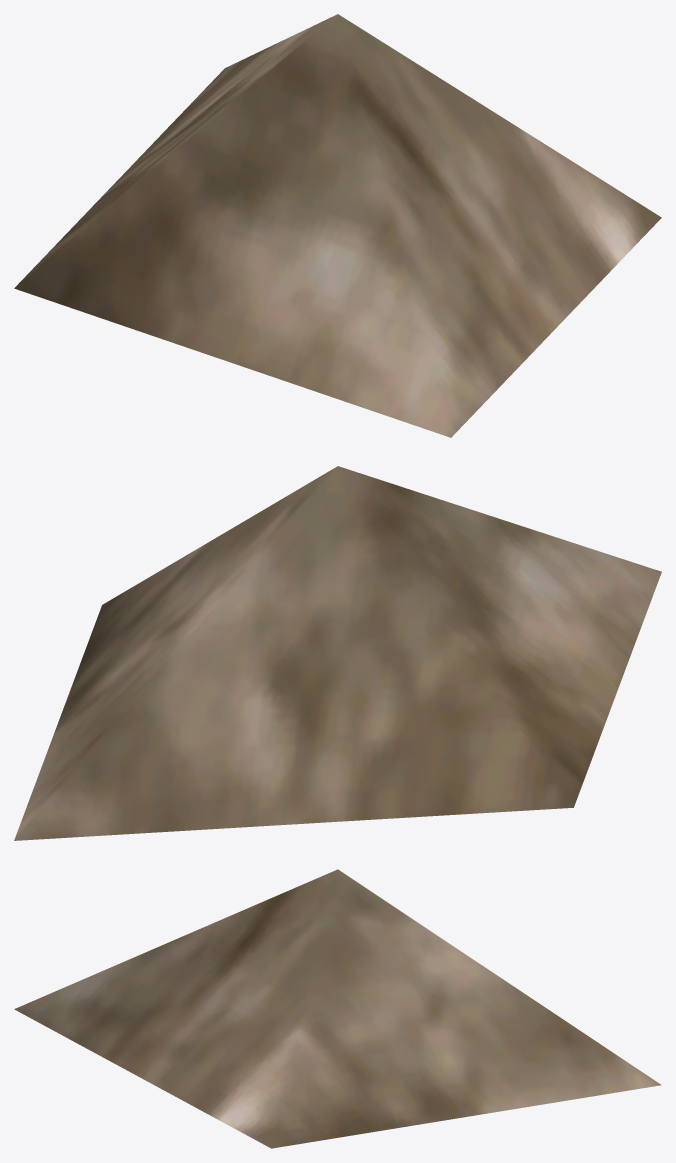
The model's file is OVERHILL_A_01_PLANE11.fbx.
3 renders of one model, top to bottom at view 1: azimuth 30°, elevation 25°; view 2: azimuth 150°, elevation 25°; view 3: azimuth 270°, elevation 25°, orthographic. The views are drawn at different scales.
Visible parts, largest first — view 1: OVERHILL_A_01_PLANE11; view 2: OVERHILL_A_01_PLANE11; view 3: OVERHILL_A_01_PLANE11.
Boxes of the visible parts, x1,y1,x2,y2 form: OVERHILL_A_01_PLANE11: (14,14,661,437); OVERHILL_A_01_PLANE11: (14,466,661,840); OVERHILL_A_01_PLANE11: (14,869,661,1148).
Size of the model in its own units: 1137 by 465 by 1534.
Materials: 1 (1 with a texture image).
